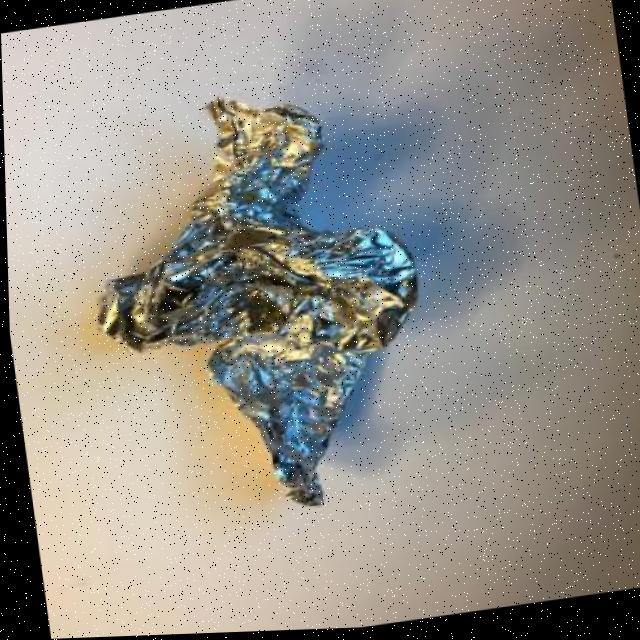metal: (67, 65, 461, 542)
